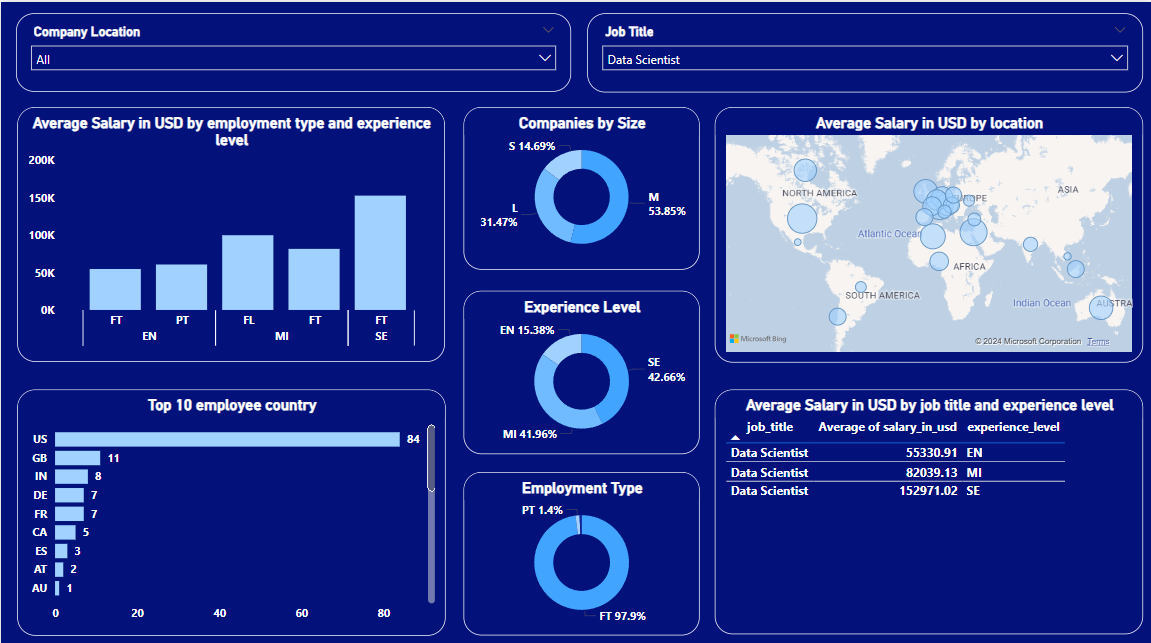

The dashboard page shown, as its layout file describes it:
{"tool":"powerbi","page":{"name":"Page 1","canvas":[1280,720],"ordinal":0},"visuals":[{"type":"slicer","fields":{"Values":["ds_salaries.company_location"]},"box":[17,12.5,617,87.5],"z":0},{"type":"slicer","fields":{"Values":["ds_salaries.job_title"]},"box":[651.5,12.1,617.7,88.1],"z":1000},{"type":"donutChart","title":"Companies by Size","fields":{"Category":["ds_salaries.company_size"],"Y":["CountNonNull(ds_salaries.company_size)"]},"box":[513.9,116.7,262.5,180.6],"z":2000},{"type":"donutChart","title":"Employment Type","fields":{"Category":["ds_salaries.employment_type"],"Y":["CountNonNull(ds_salaries.employment_type)"]},"box":[513.9,522.2,262.5,181.9],"z":3000},{"type":"donutChart","title":"Experience Level","fields":{"Category":["ds_salaries.experience_level"],"Y":["CountNonNull(ds_salaries.experience_level)"]},"box":[513.9,320.8,262.5,181.9],"z":4000},{"type":"columnChart","title":"Average Salary in USD by employment type and experience level","fields":{"Category":["ds_salaries.experience_level","ds_salaries.employment_type"],"Y":["Avg(ds_salaries.salary_in_usd)"]},"box":[18.1,117,475.3,283.5],"z":4001},{"type":"map","title":"Average Salary in USD by location","fields":{"Size":["Avg(ds_salaries.salary_in_usd)"],"Category":["ds_salaries.company_location"]},"box":[793.3,117.3,476,284],"z":4002},{"type":"clusteredBarChart","title":"Top 10 employee country","fields":{"Category":["ds_salaries.company_location"],"Y":["CountNonNull(ds_salaries.company_location)"]},"box":[18.1,430.6,476.4,273.6],"z":4003},{"type":"tableEx","title":"Average Salary in USD by job title and experience level","fields":{"Values":["ds_salaries.job_title","Avg(ds_salaries.salary_in_usd)","ds_salaries.experience_level"]},"box":[793.1,430.6,476.4,272.2],"z":4004}]}

Visuals, with their boxes in screenshot pixels (x1, y1, x2, y2), scaled from the page's 1280x720 canvas onto the 1151x643 screenshot:
slicer - ds_salaries.company_location: select_region(15, 11, 570, 89)
slicer - ds_salaries.job_title: select_region(586, 11, 1141, 89)
"Companies by Size" donutChart: select_region(462, 104, 698, 266)
"Employment Type" donutChart: select_region(462, 466, 698, 629)
"Experience Level" donutChart: select_region(462, 286, 698, 449)
"Average Salary in USD by employment type and experience level" columnChart: select_region(16, 104, 444, 358)
"Average Salary in USD by location" map: select_region(713, 105, 1141, 358)
"Top 10 employee country" clusteredBarChart: select_region(16, 385, 445, 629)
"Average Salary in USD by job title and experience level" tableEx: select_region(713, 385, 1142, 628)
